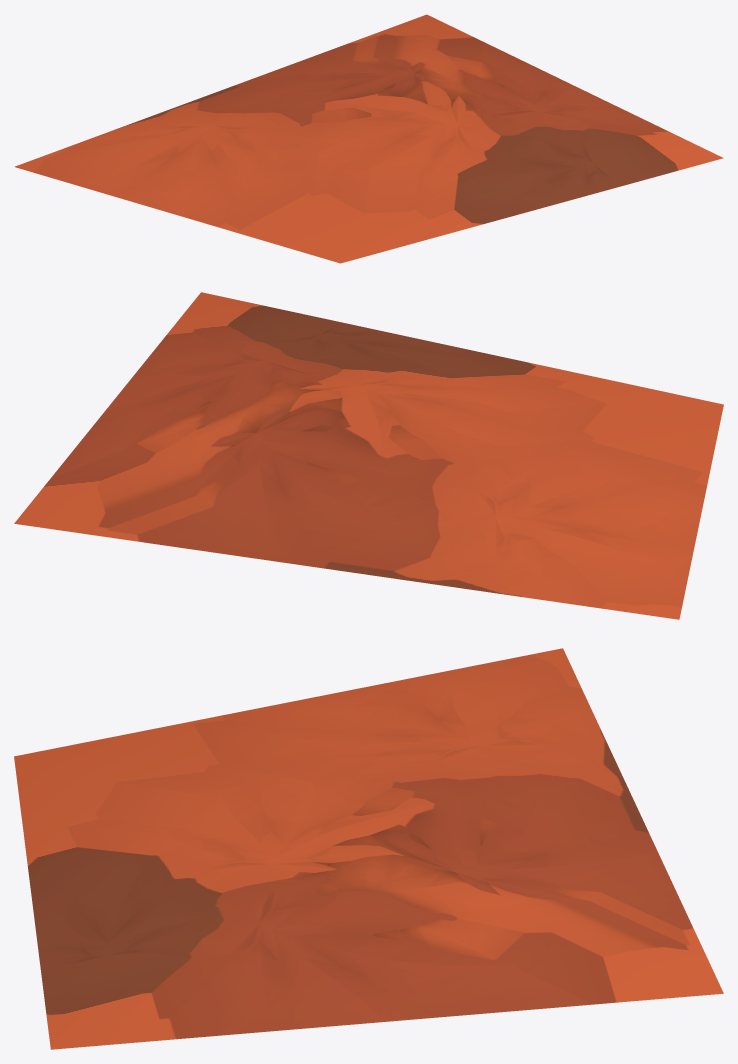
Rendered from SM_Env_Maple_Small_01.fbx.
3 renders of one model, top to bottom at view 1: azimuth 30°, elevation 25°; view 2: azimuth 150°, elevation 25°; view 3: azimuth 270°, elevation 25°, orthographic. The views are drawn at different scales.
Visible parts, largest first — view 1: SM_Env_Maple_Small_01; view 2: SM_Env_Maple_Small_01; view 3: SM_Env_Maple_Small_01.
Boxes of the visible parts, x1,y1,x2,y2 form: SM_Env_Maple_Small_01: (14,14,723,263); SM_Env_Maple_Small_01: (14,292,723,619); SM_Env_Maple_Small_01: (14,648,723,1049).
Size of the model in its own units: 175 by 12.41 by 131.
